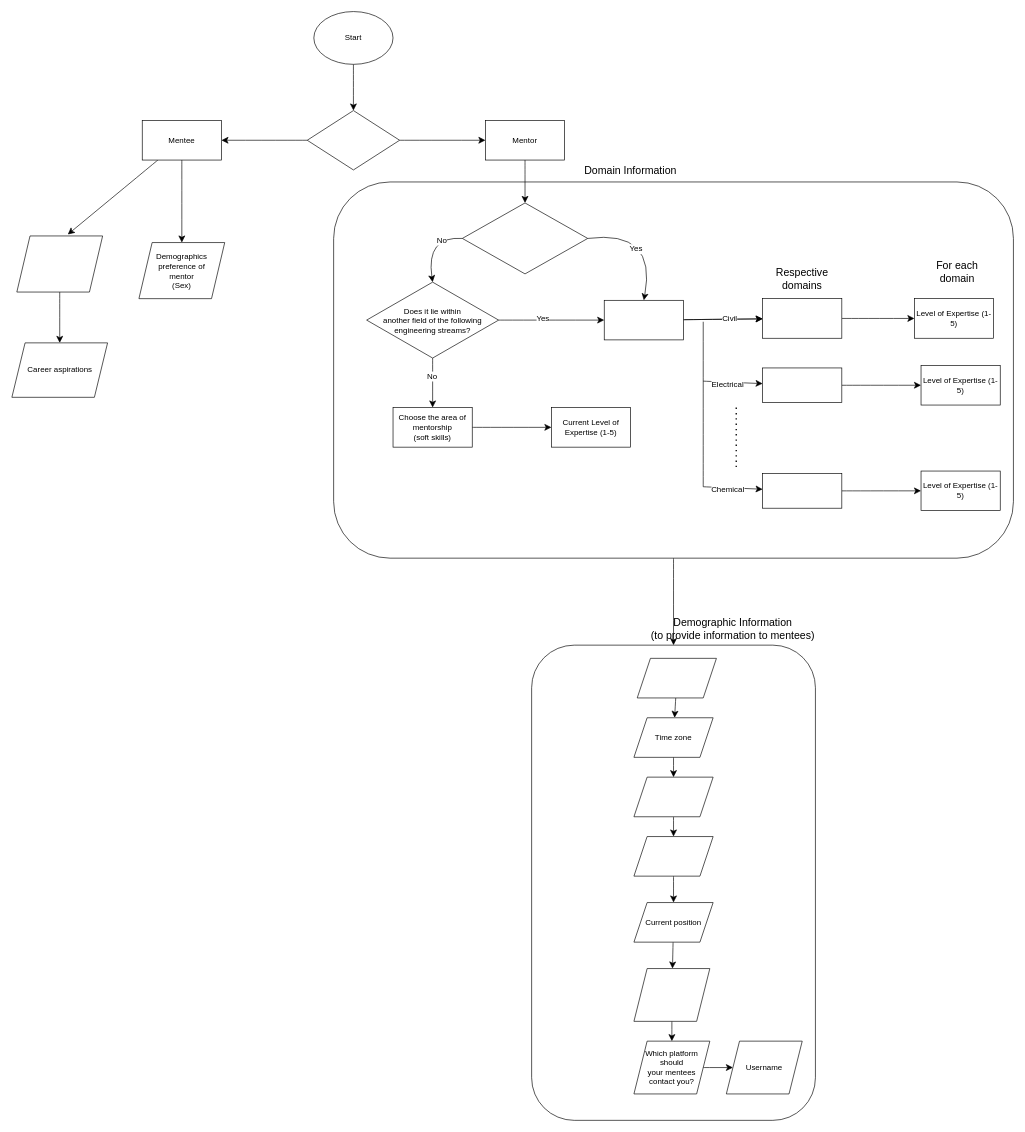
Some shapes in this 1025 by 1132 pixel diagram are drawn without their labels. Each missing label, with the box of its shape:
Anything you might want your potential mentees to know?: (633, 968, 710, 1021)
Areas of expected guidance: (16, 235, 103, 292)
Current organizational affiliation: (633, 836, 713, 876)
Gender: (633, 776, 713, 817)
Is your area of coaching specialized within your engineering bg?: (462, 202, 588, 274)
Role: (307, 110, 400, 170)
Select engineering stream or multiple (if intersection): (604, 300, 683, 340)
Years since graduation: (637, 658, 716, 698)
